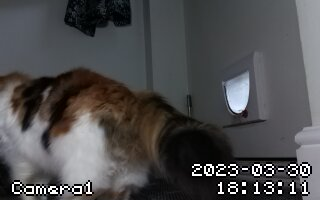clara: (2, 65, 236, 194)
